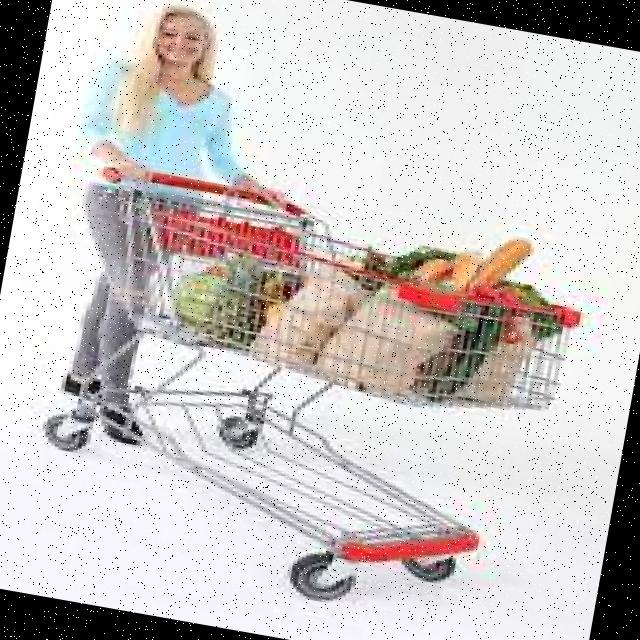Person: (36, 0, 314, 462)
